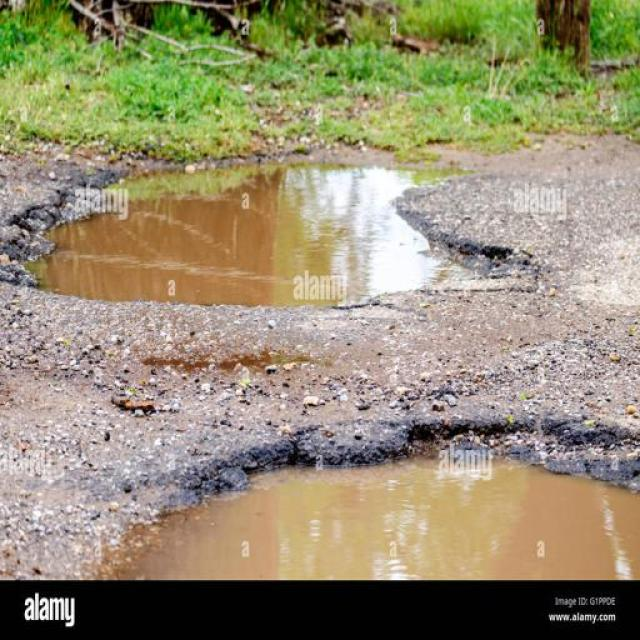puddle: (113, 158, 443, 295), (209, 485, 634, 576)
